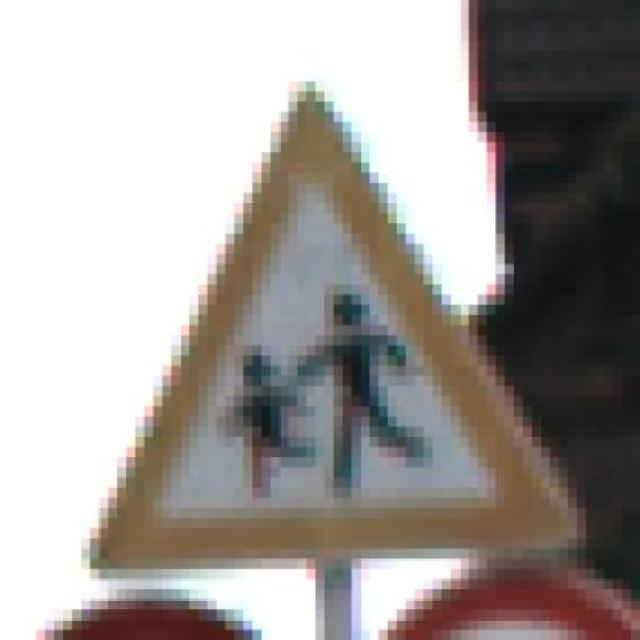Beware of children: (72, 72, 596, 579)
